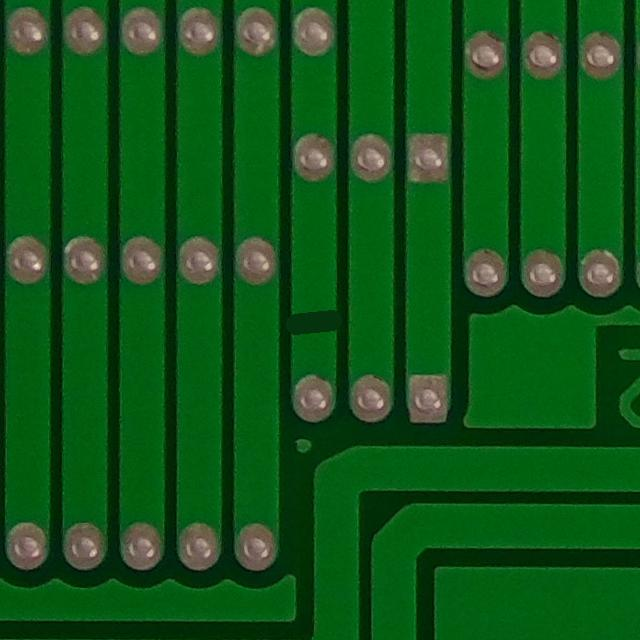open_circuit: (285, 298, 355, 343)
